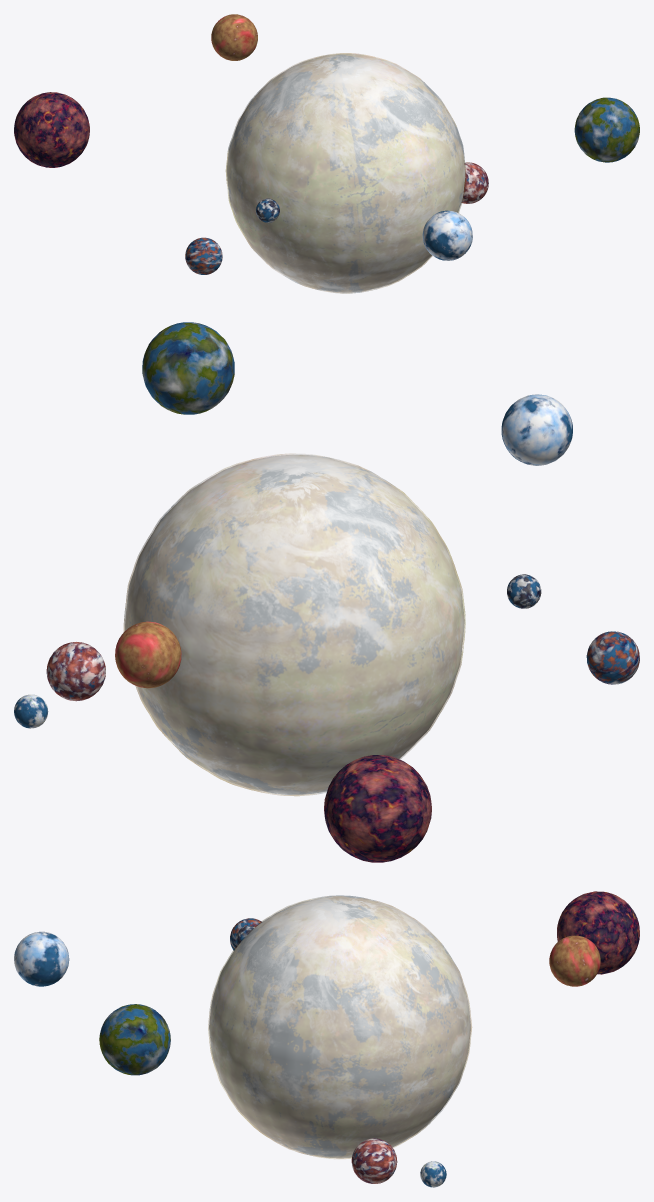
The model's file is MaxkodiaPlanet.glb.
The picture shows the model from 3 angles, top to bottom: view 1: azimuth 30°, elevation 25°; view 2: azimuth 150°, elevation 25°; view 3: azimuth 270°, elevation 25°; orthographic projection. The views are drawn at different scales.
Parts seen in each view (by area): view 1: Object_2, Object_3, moon8, moon5, moon6, moon4, moon1, moon3, moon2; view 2: Object_2, Object_3, moon8, moon5, moon6, moon4, moon3, moon1, moon2, moon7; view 3: Object_2, Object_3, moon8, moon5, moon6, moon4, moon3, moon7.
Boxes of the visible parts, x1=… form: Object_2: x1=226, y1=54, x2=465, y2=292; Object_3: x1=226, y1=53, x2=465, y2=293; moon8: x1=14, y1=92, x2=89, y2=167; moon5: x1=574, y1=97, x2=639, y2=162; moon6: x1=422, y1=210, x2=472, y2=260; moon4: x1=211, y1=14, x2=257, y2=60; moon1: x1=185, y1=237, x2=222, y2=274; moon3: x1=461, y1=162, x2=488, y2=203; moon2: x1=255, y1=198, x2=279, y2=222; Object_2: x1=125, y1=455, x2=464, y2=794; Object_3: x1=124, y1=454, x2=465, y2=795; moon8: x1=324, y1=755, x2=431, y2=862; moon5: x1=142, y1=322, x2=234, y2=414; moon6: x1=501, y1=394, x2=572, y2=465; moon4: x1=115, y1=621, x2=181, y2=688; moon3: x1=46, y1=642, x2=105, y2=701; moon1: x1=586, y1=631, x2=639, y2=684; moon2: x1=507, y1=574, x2=541, y2=608; moon7: x1=14, y1=694, x2=48, y2=728; Object_2: x1=209, y1=896, x2=470, y2=1158; Object_3: x1=208, y1=895, x2=471, y2=1158; moon8: x1=557, y1=891, x2=639, y2=974; moon5: x1=99, y1=1004, x2=170, y2=1075; moon6: x1=14, y1=931, x2=69, y2=986; moon4: x1=549, y1=935, x2=600, y2=986; moon3: x1=351, y1=1138, x2=397, y2=1183; moon7: x1=420, y1=1161, x2=446, y2=1187.
Size of the model in its own units: 134 by 69.1 by 164.
10 materials, 9 textured.
